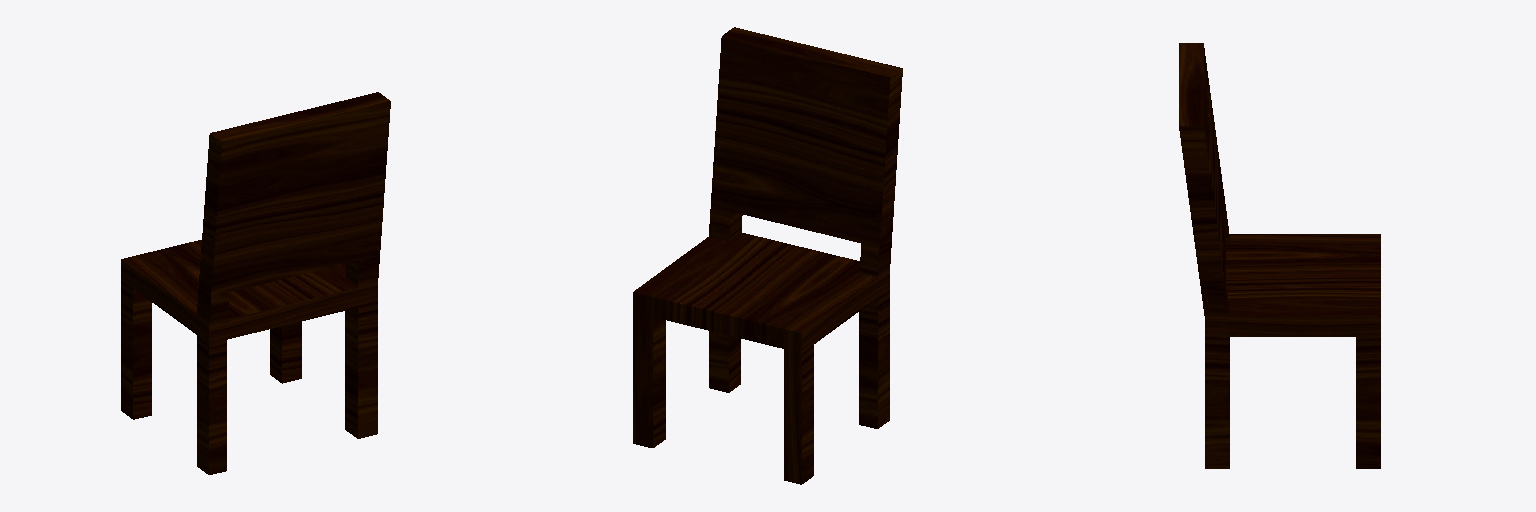
The picture shows the model from 3 angles: view 1: azimuth 30°, elevation 25°; view 2: azimuth 150°, elevation 25°; view 3: azimuth 270°, elevation 25°; orthographic projection.
Parts seen in each view (by area): view 1: pCube1; view 2: pCube1; view 3: pCube1.
Boxes of the visible parts, <box> form: pCube1: <box>121,92,390,474</box>; pCube1: <box>633,27,902,484</box>; pCube1: <box>1179,43,1380,468</box>.
Size of the model in its own units: 2.99 by 5.8 by 3.1.
Materials: 1 (1 with a texture image).